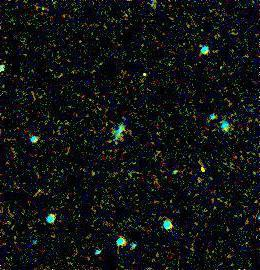star: (130, 61, 160, 91)
